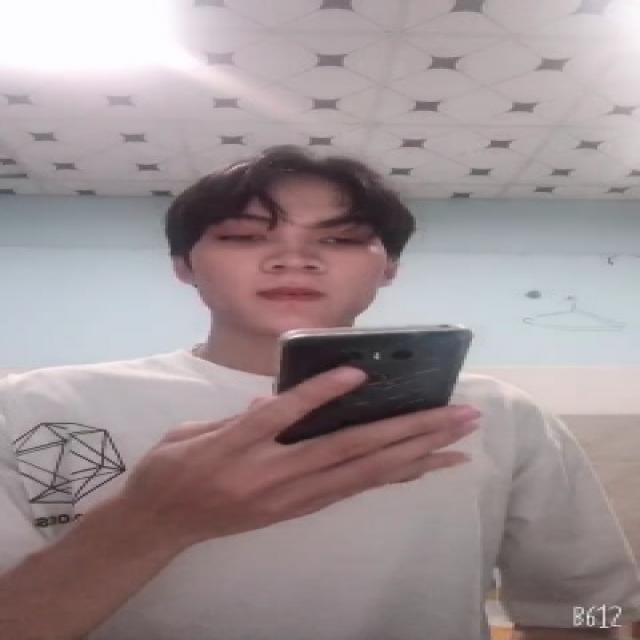Phone: (272, 319, 476, 446)
